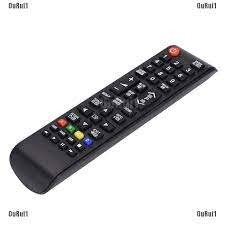remote control: (6, 33, 225, 196)
